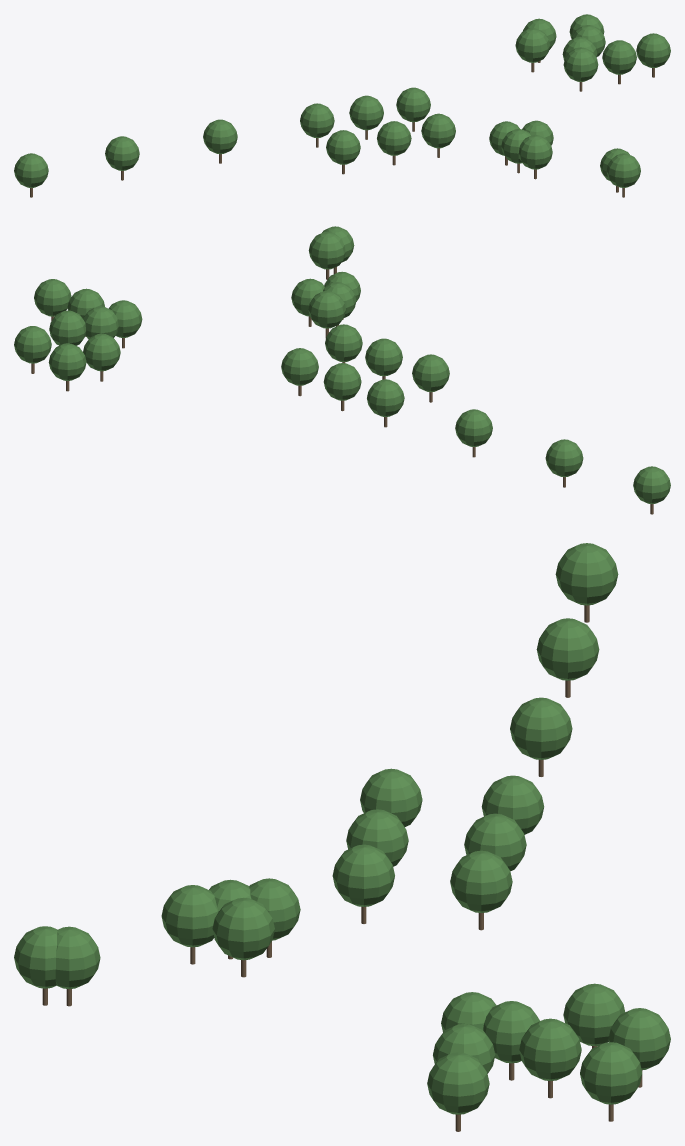
Rendered from trees-661-12978-7f31c03191ac.glb.
The picture shows the model from 3 angles, top to bottom: view 1: azimuth 30°, elevation 25°; view 2: azimuth 150°, elevation 25°; view 3: azimuth 270°, elevation 25°; orthographic projection. The views are drawn at different scales.
Bounding box in the file's own units: 246 × 18.52 × 126.
